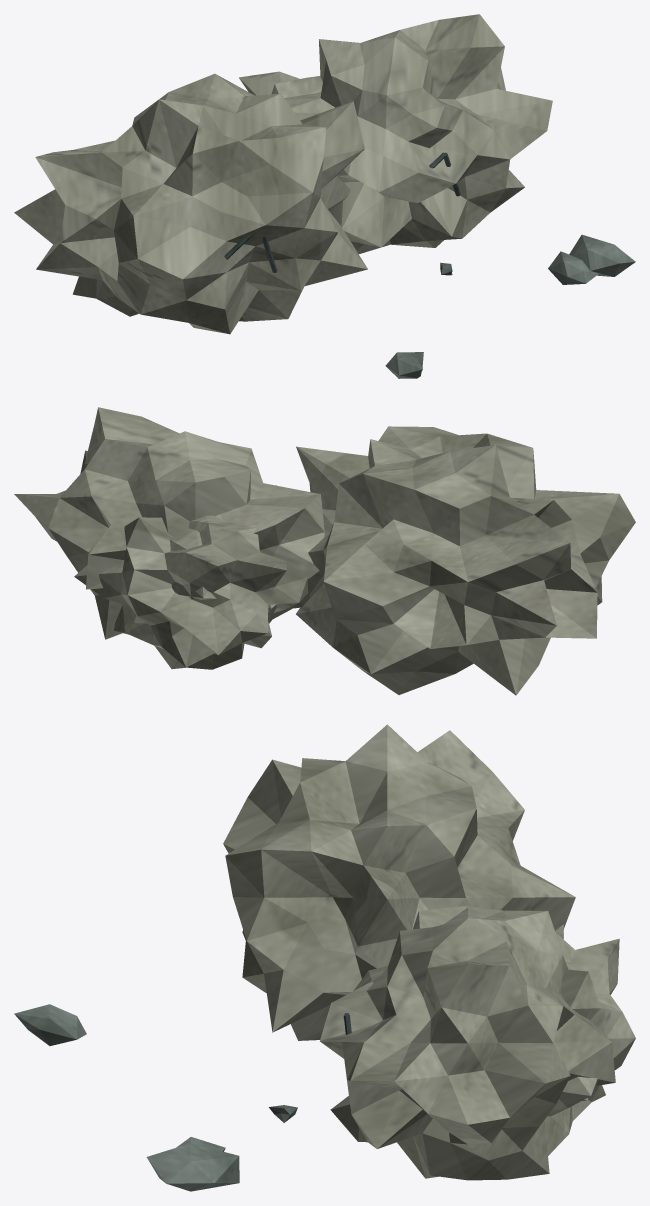
The model's file is 0023_boulder_23.glb.
The picture shows the model from 3 angles, top to bottom: view 1: azimuth 30°, elevation 25°; view 2: azimuth 150°, elevation 25°; view 3: azimuth 270°, elevation 25°; orthographic projection. The views are drawn at different scales.
Visible parts, largest first — view 1: stone_light, stone, stone_dark; view 2: stone_light; view 3: stone_light, stone.
Boxes of the visible parts, x1,y1,x2,y2 form: stone_light: (14, 14, 552, 334); stone: (385, 234, 635, 378); stone_dark: (224, 152, 460, 272); stone_light: (14, 407, 635, 695); stone_light: (223, 724, 635, 1180); stone: (14, 1004, 297, 1191).
Bounding box in the file's own units: 3.1 × 1.4 × 2.64.
Materials: 3 (3 with a texture image).
